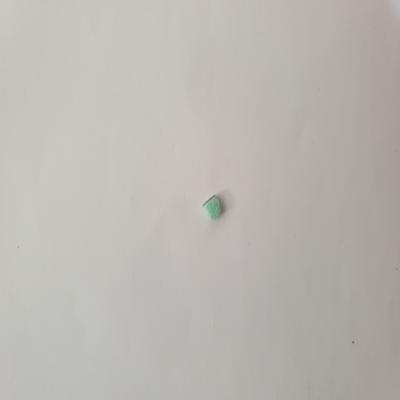plastic: (200, 192, 228, 225)
